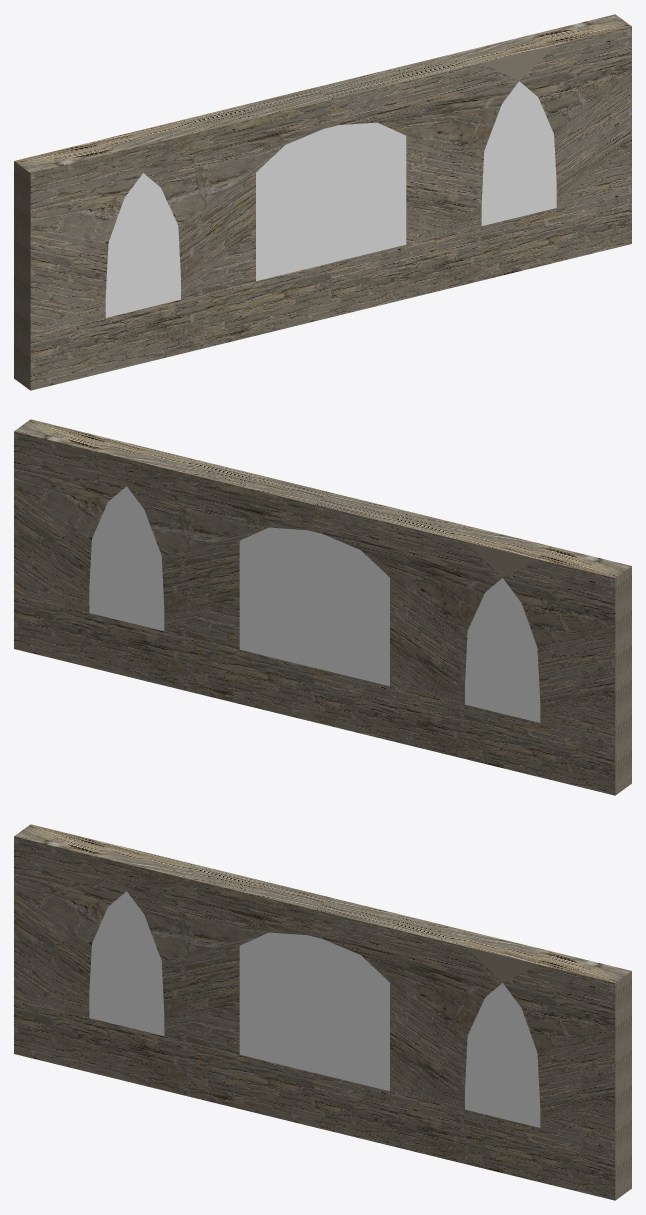
File: side wall 1.glb
3 views of the same model, one above another, from view 1: azimuth 30°, elevation 25°; view 2: azimuth 150°, elevation 25°; view 3: azimuth 330°, elevation 25° (orthographic).
Visible parts, largest first — view 1: side wall 1.001, big window half, small window.001, small window; view 2: side wall 1.001, big window half, small window.001, small window; view 3: side wall 1.001, big window half, small window, small window.001.
Part boxes in pixels (box(x1,y1,x2,y2)): side wall 1.001: box(14, 14, 631, 390); big window half: box(256, 122, 406, 281); small window.001: box(481, 81, 556, 225); small window: box(105, 173, 180, 317); side wall 1.001: box(14, 419, 631, 795); big window half: box(239, 527, 389, 686); small window.001: box(89, 486, 164, 630); small window: box(465, 578, 540, 722); side wall 1.001: box(14, 824, 631, 1200); big window half: box(239, 932, 389, 1091); small window: box(89, 891, 164, 1035); small window.001: box(465, 983, 540, 1127).
Size of the model in its own units: 460 by 159 by 22.
Materials: 4 (1 with a texture image).
